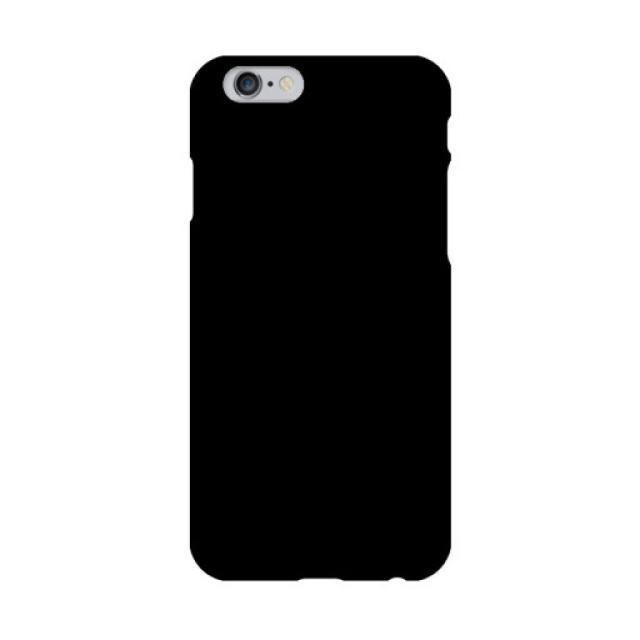phone: (187, 54, 453, 583)
